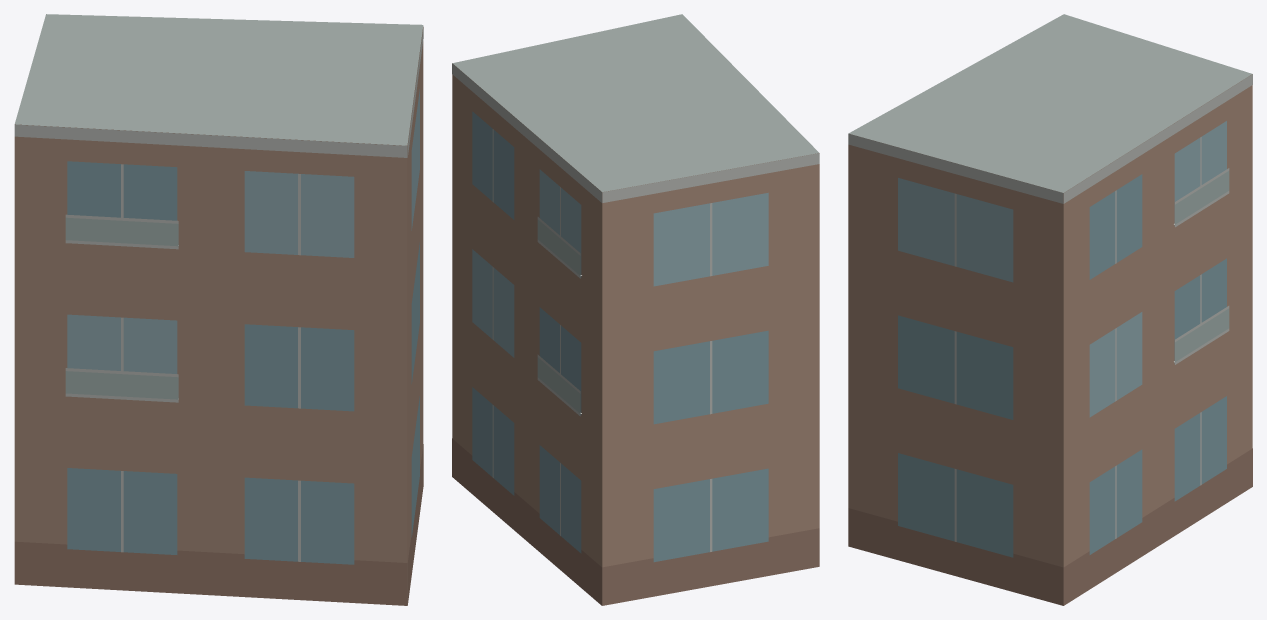
Rendered from survey-upis-33006144.glb.
The picture shows the model from 3 angles, left to right: view 1: azimuth 30°, elevation 25°; view 2: azimuth 150°, elevation 25°; view 3: azimuth 270°, elevation 25°; orthographic projection. The views are drawn at different scales.
Parts seen in each view (by area): view 1: survey-upis-33006144.tmp; view 2: survey-upis-33006144.tmp; view 3: survey-upis-33006144.tmp.
Part boxes in pixels (bbox=[...]): survey-upis-33006144.tmp: bbox=[14, 14, 423, 605]; survey-upis-33006144.tmp: bbox=[452, 14, 819, 605]; survey-upis-33006144.tmp: bbox=[848, 14, 1252, 605].
Bounding box in the file's own units: 8.52 × 9.15 × 8.13.
